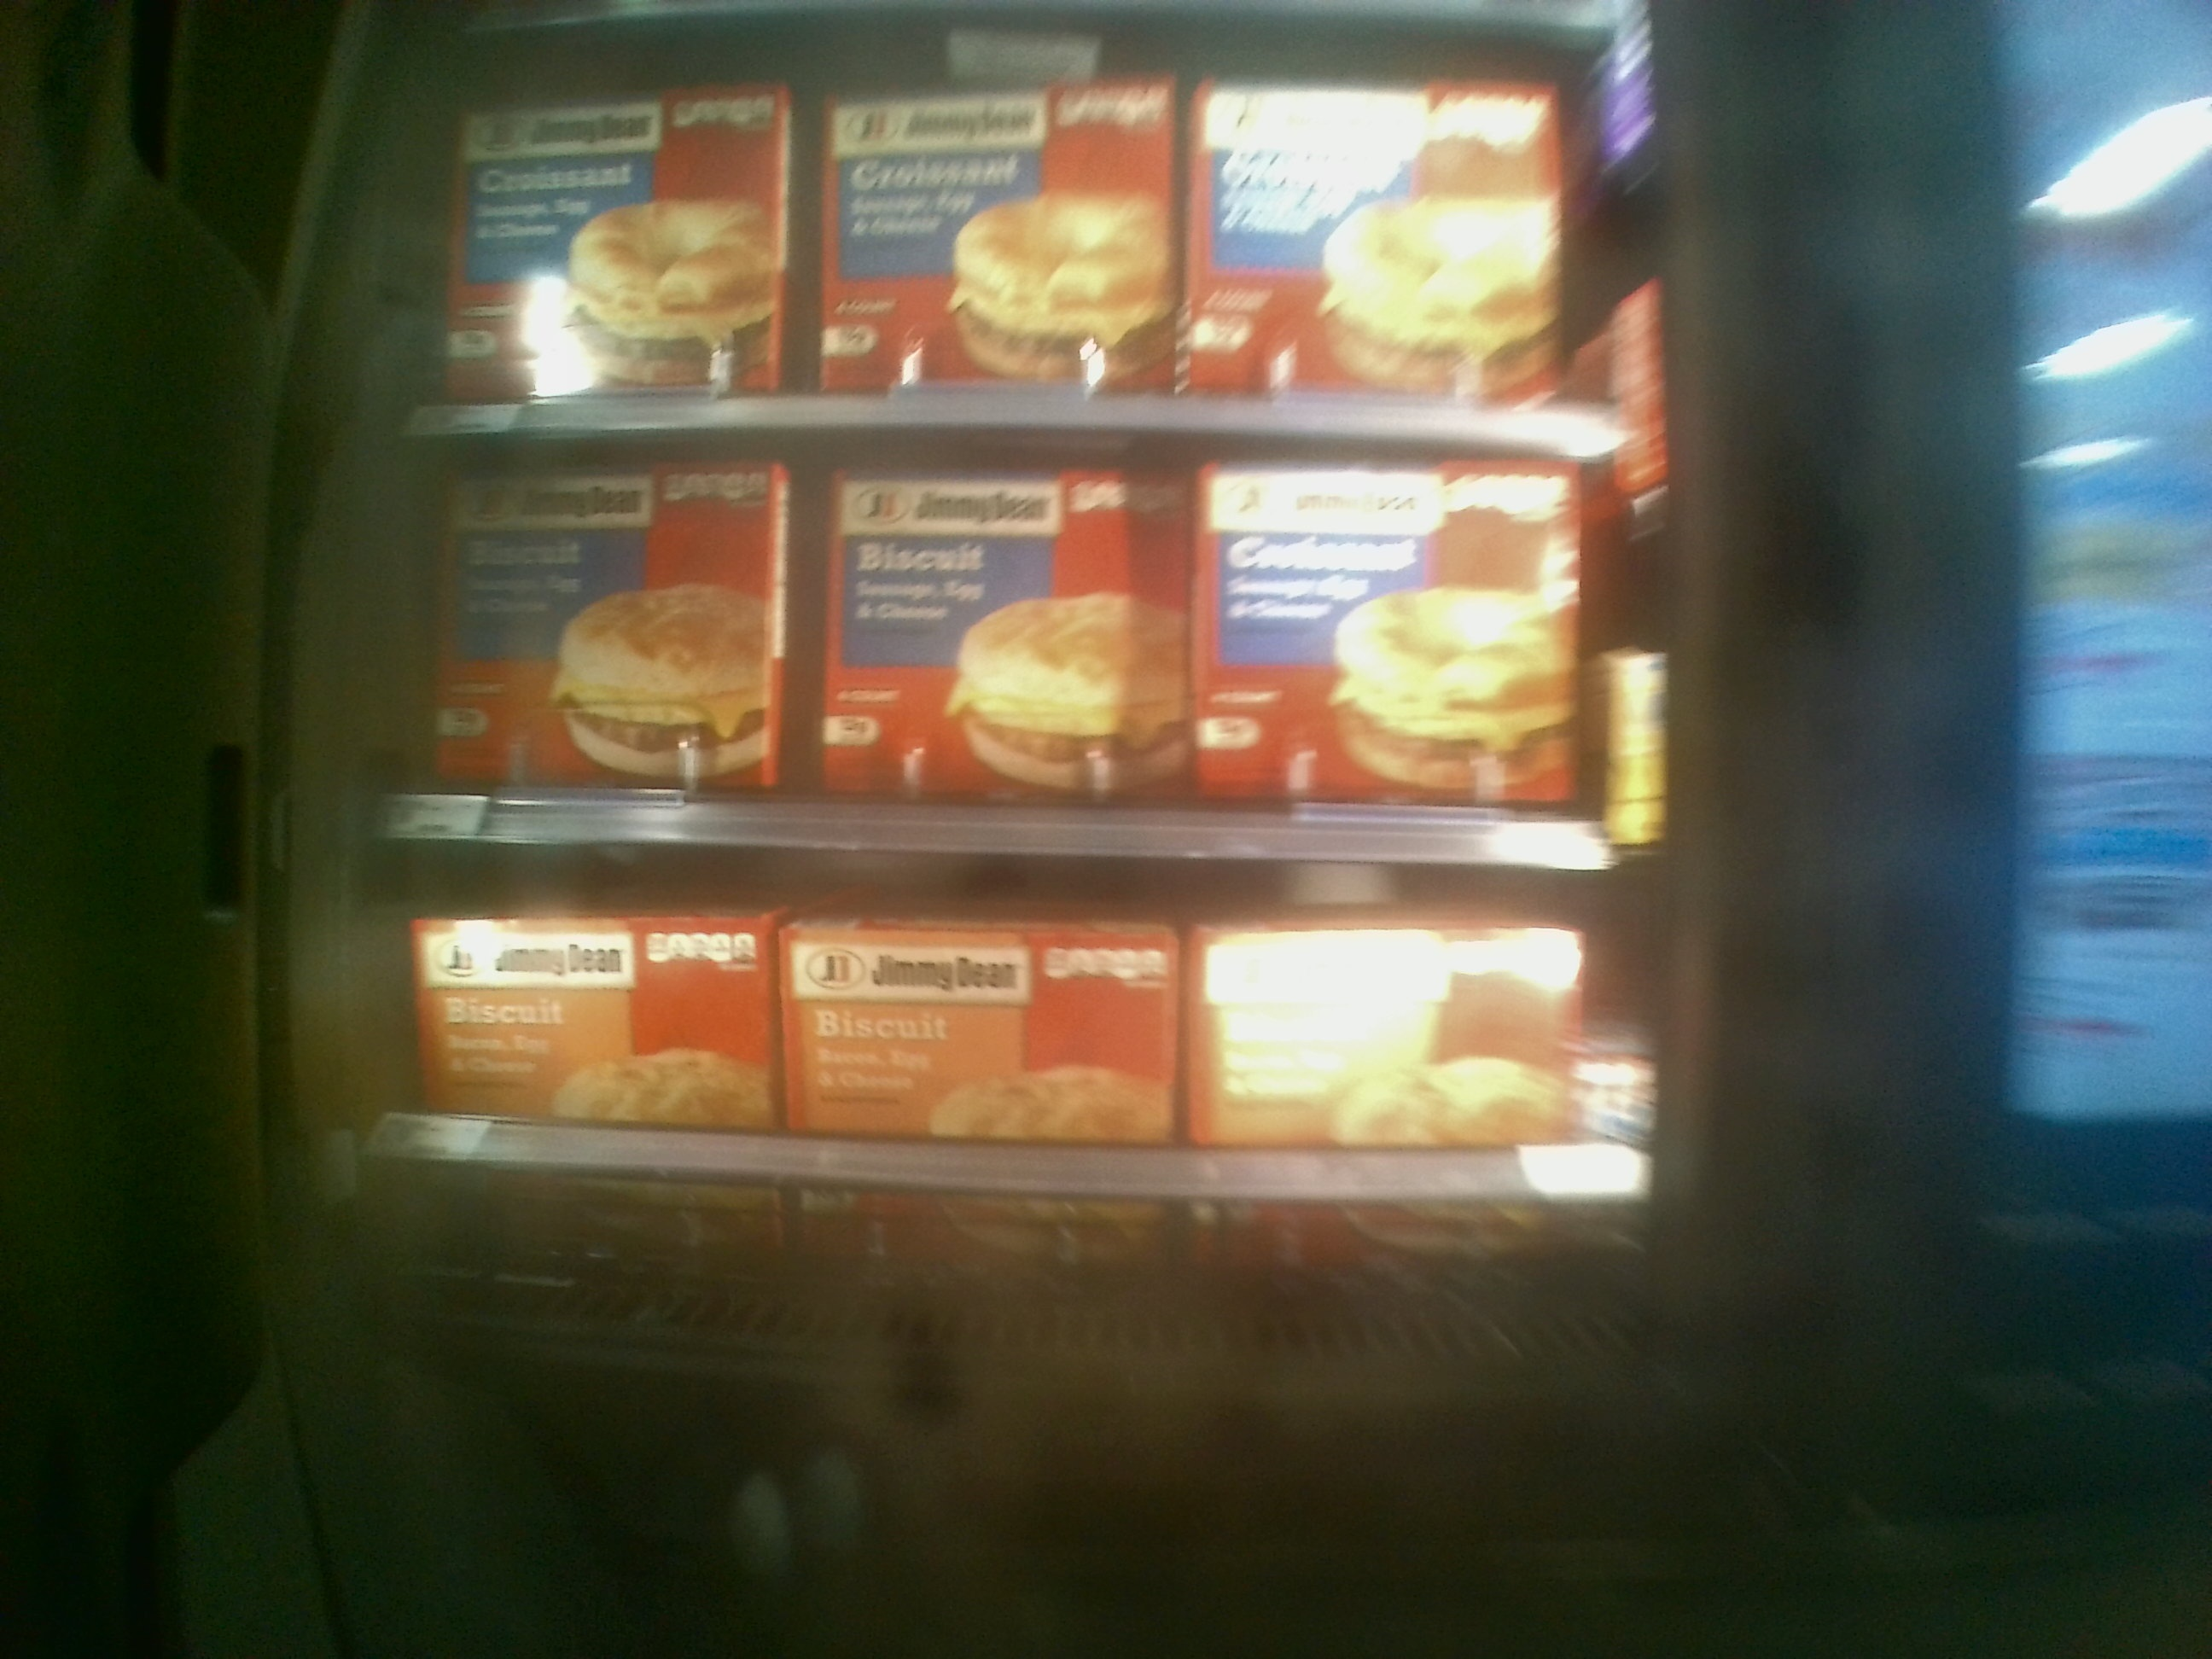shelf: (364, 852, 1674, 1319), (371, 432, 1662, 871)
